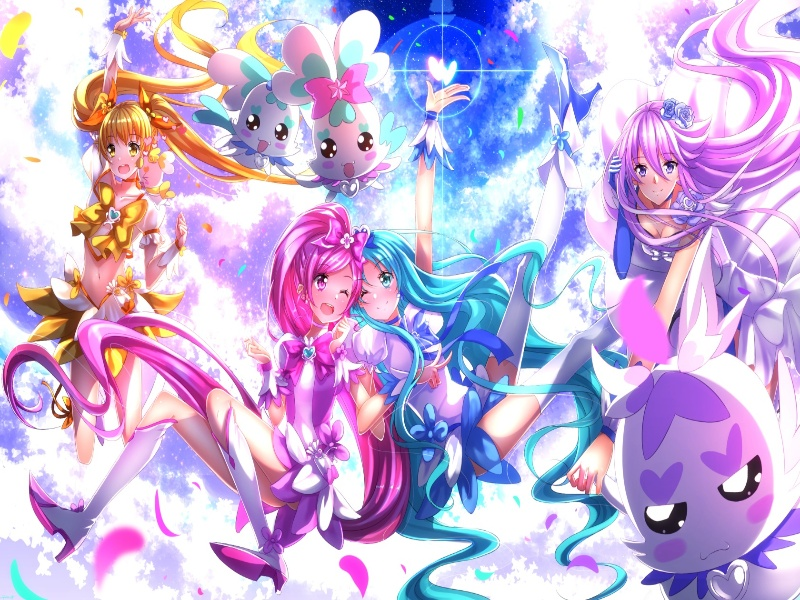person: (613, 131, 697, 213), (348, 256, 416, 331), (295, 255, 359, 327), (94, 126, 155, 183)
